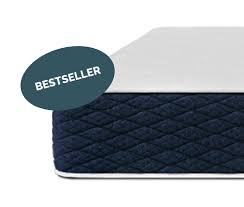bed-matress: (52, 24, 244, 180)
